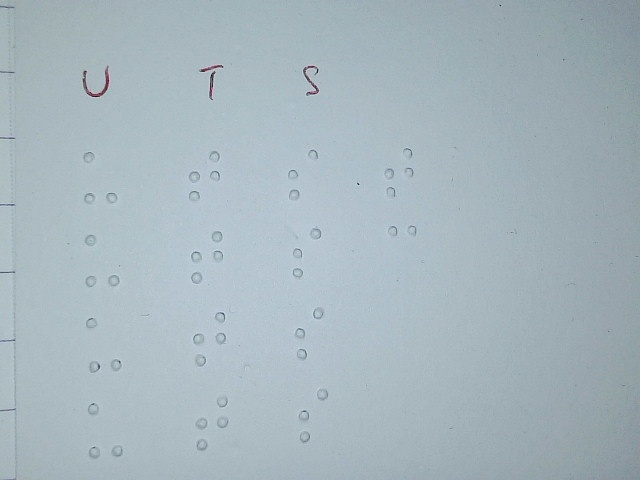S: (286, 146, 320, 202), (293, 305, 325, 361), (297, 386, 329, 442), (291, 224, 322, 278)
T: (192, 308, 227, 367), (194, 393, 229, 452), (187, 147, 221, 203), (190, 228, 224, 284)
U: (86, 400, 125, 459), (85, 316, 122, 375), (82, 149, 119, 204), (84, 233, 121, 288)
